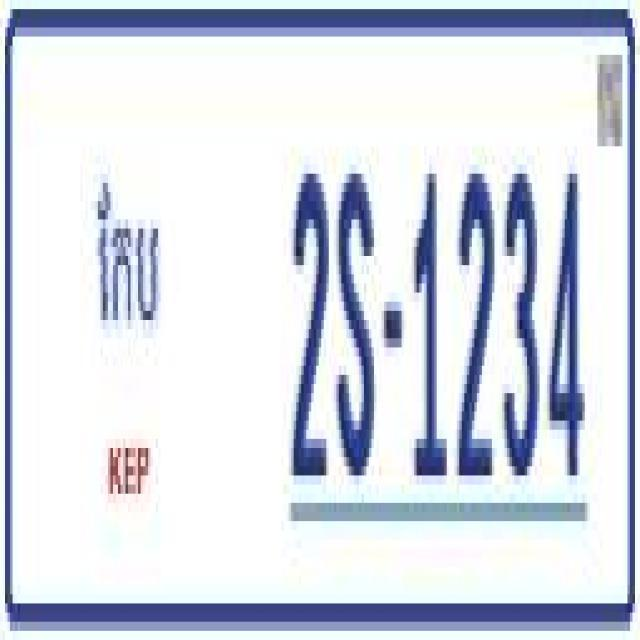Kep: (90, 165, 164, 358)
